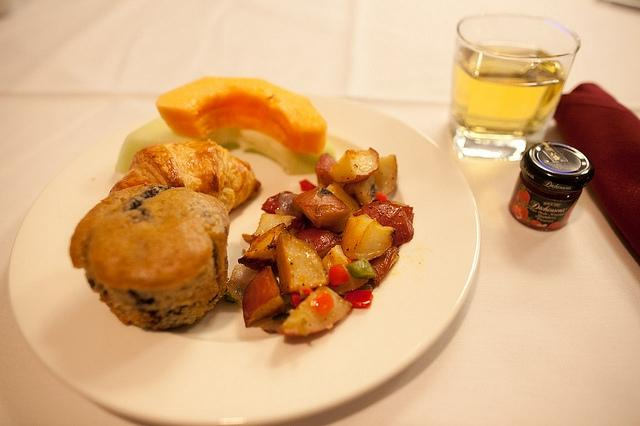bell pepper: (346, 258, 376, 279), (344, 290, 374, 308), (328, 264, 349, 286), (299, 179, 317, 192), (290, 292, 302, 307)
potato: (278, 285, 352, 337), (276, 233, 330, 294), (341, 211, 397, 261), (292, 186, 351, 233), (343, 155, 398, 205), (238, 223, 288, 278), (242, 265, 286, 327), (322, 245, 369, 294), (328, 148, 379, 184), (293, 228, 341, 260), (227, 264, 260, 309), (326, 181, 361, 217), (369, 247, 399, 288), (252, 213, 296, 236), (314, 154, 336, 188), (274, 194, 302, 218)
